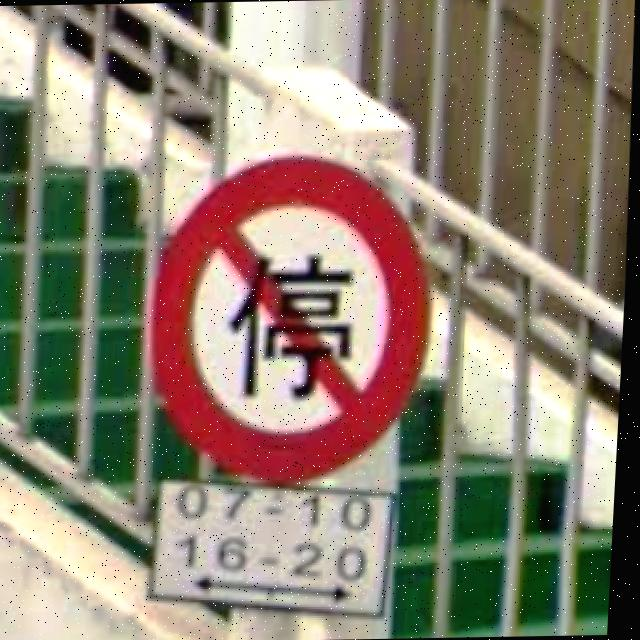nopark: (140, 148, 444, 486)
